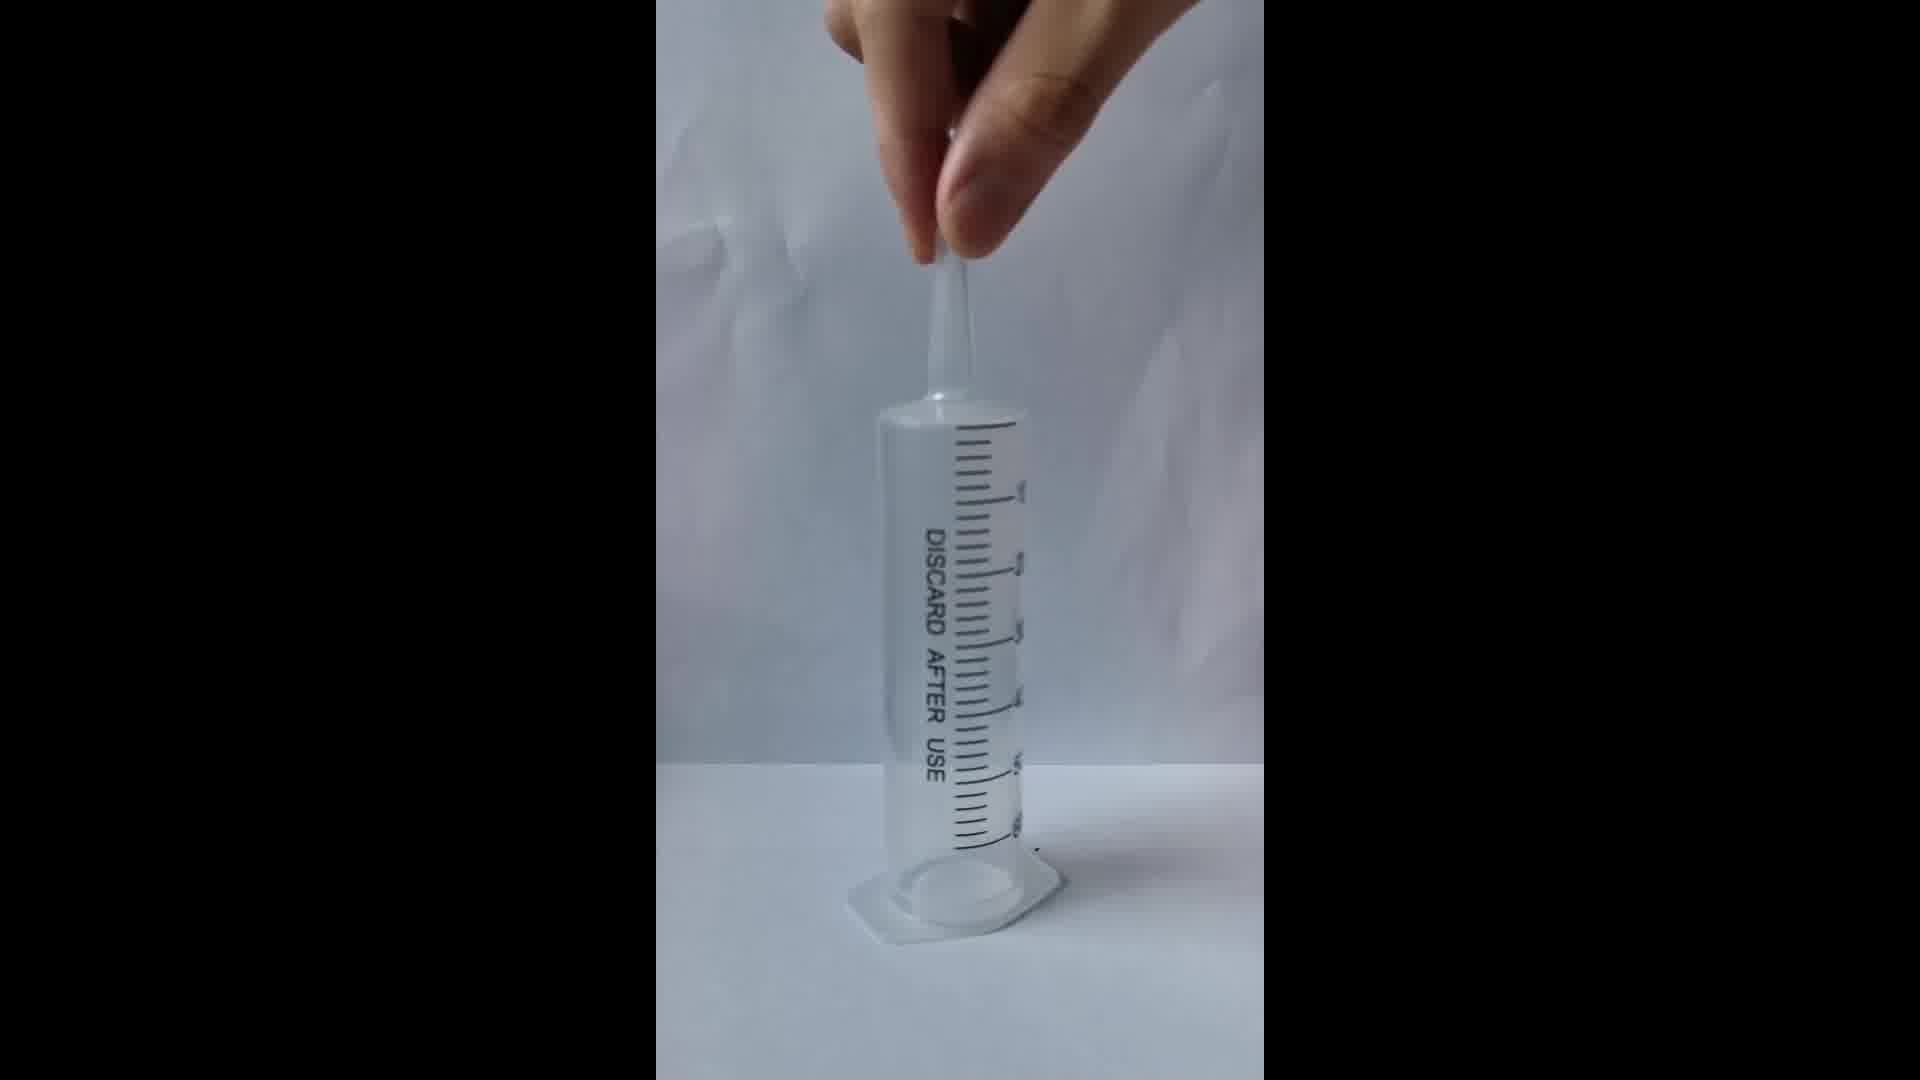syringe: (833, 262, 1073, 953)
